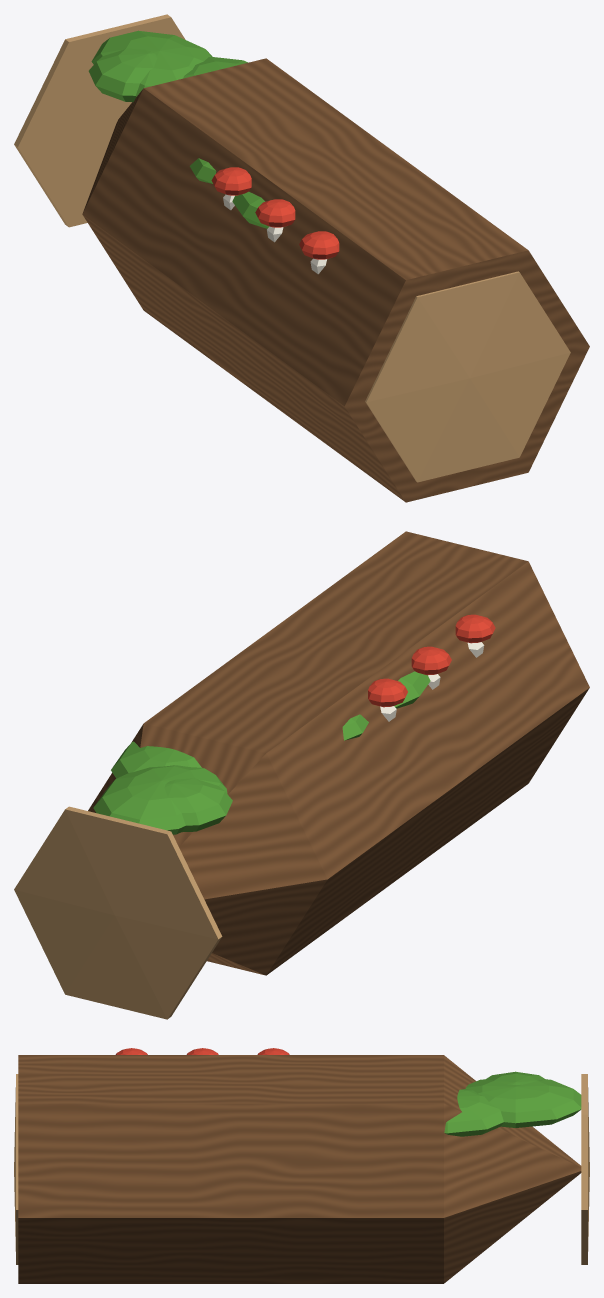
File: MossyLog.glb
3 renders of one model, top to bottom at view 1: azimuth 30°, elevation 25°; view 2: azimuth 150°, elevation 25°; view 3: azimuth 270°, elevation 25°, orthographic. The views are drawn at different scales.
Parts seen in each view (by area): view 1: MossyLog; view 2: MossyLog; view 3: MossyLog.
Boxes of the visible parts, x1=… form: MossyLog: x1=14, y1=14, x2=589, y2=502; MossyLog: x1=14, y1=531, x2=589, y2=1019; MossyLog: x1=14, y1=1048, x2=589, y2=1283.
Size of the model in its own units: 1.62 by 1.4 by 4.06.
Materials: 1 (1 with a texture image).
